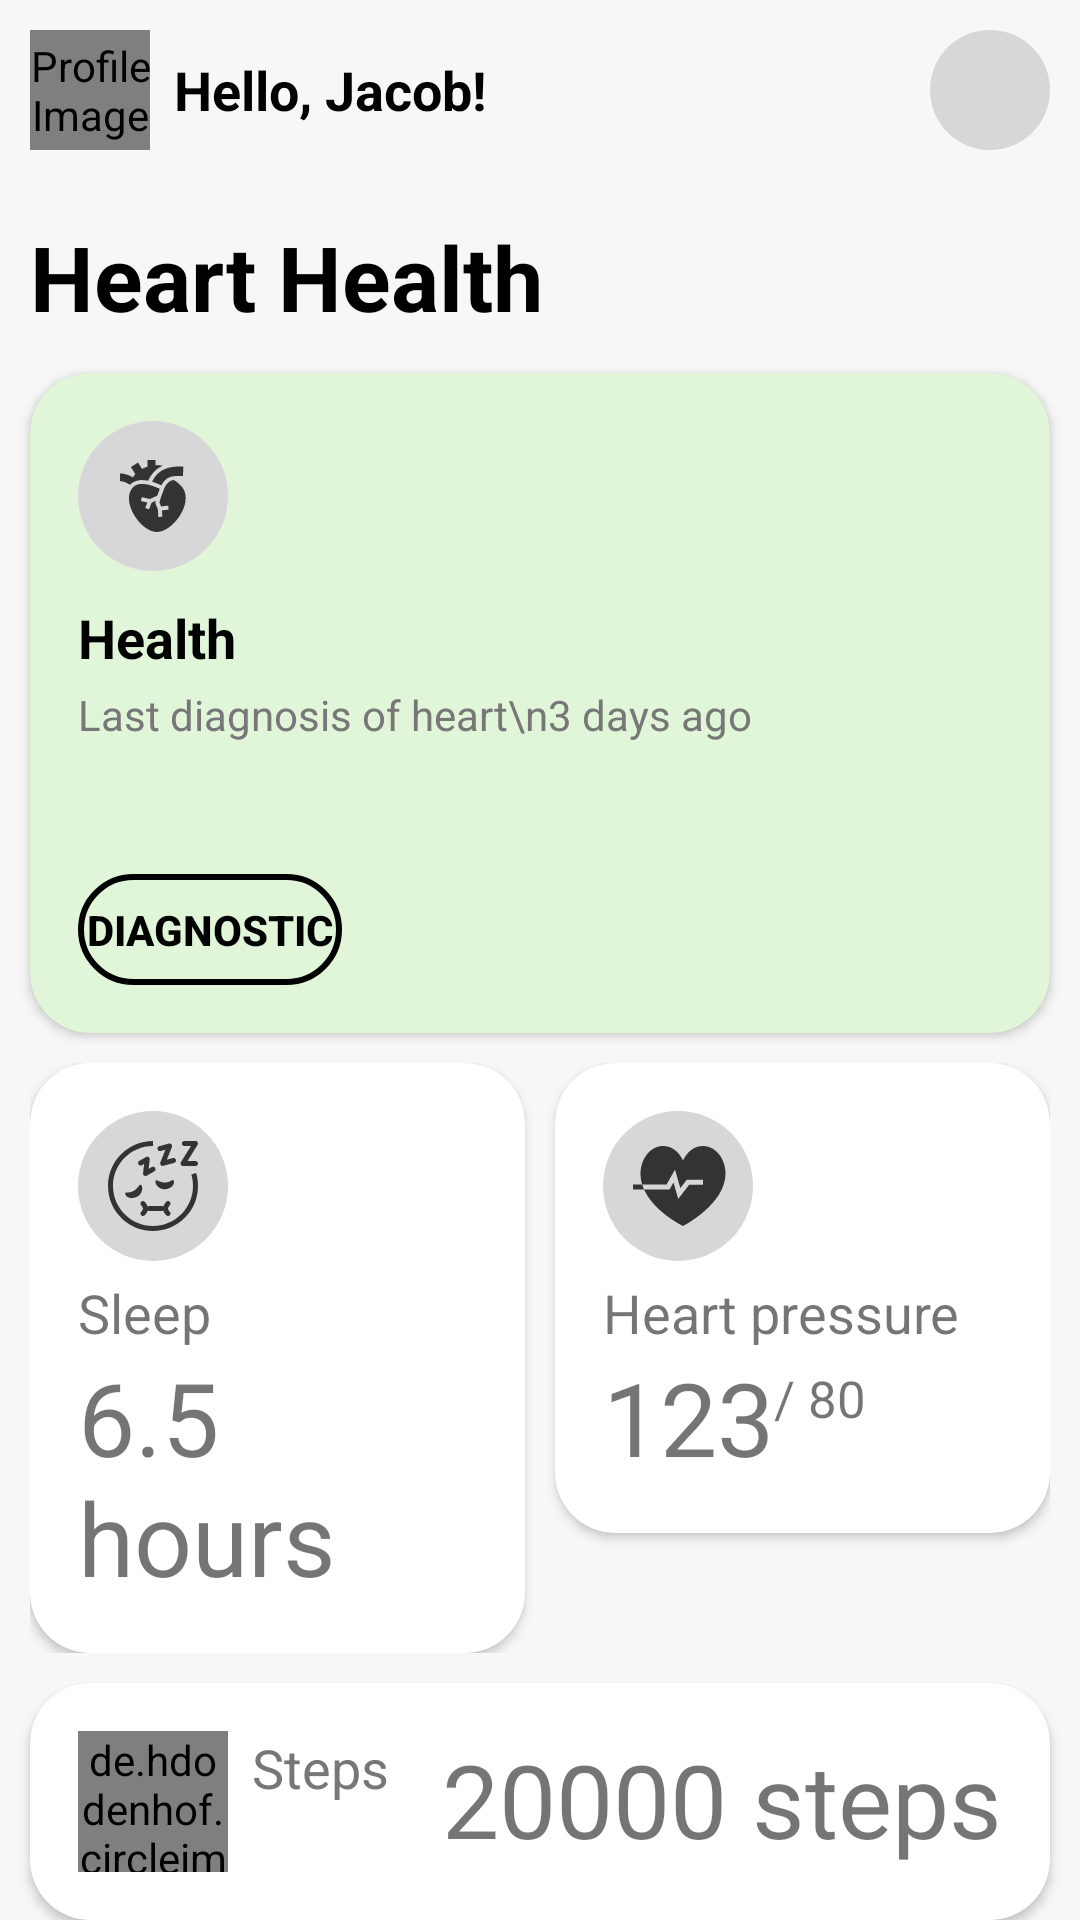

Named icons in this screenshot (1080*1920) and their bounding boxes, BBox(x1, y1, x2, y2):
heartrythmn: BBox(603, 1111, 753, 1261)
